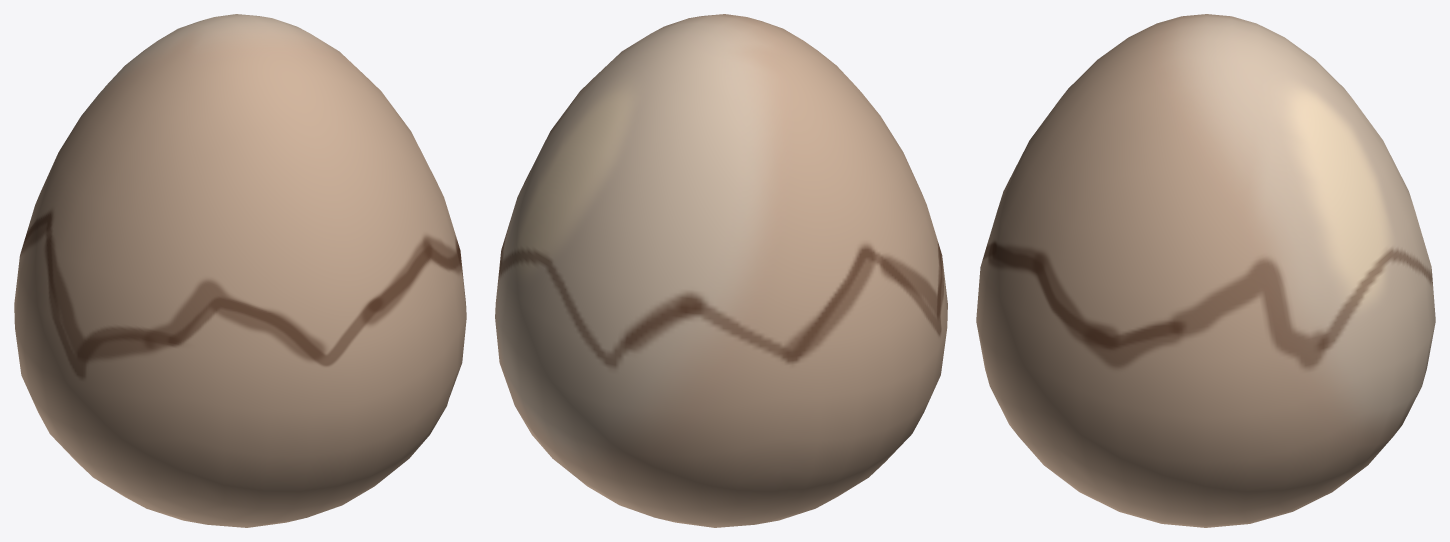
Rendered from egg.fbx.
3 renders of one model, left to right at view 1: azimuth 30°, elevation 25°; view 2: azimuth 150°, elevation 25°; view 3: azimuth 270°, elevation 25°, orthographic.
Visible parts, largest first — view 1: Cube.001; view 2: Cube.001; view 3: Cube.001.
Part boxes in pixels (box(x1,y1,x2,y2)): Cube.001: box(14, 14, 466, 527); Cube.001: box(495, 14, 947, 527); Cube.001: box(976, 14, 1435, 527).
Size of the model in its own units: 0.9551 by 1.1 by 0.9554.
